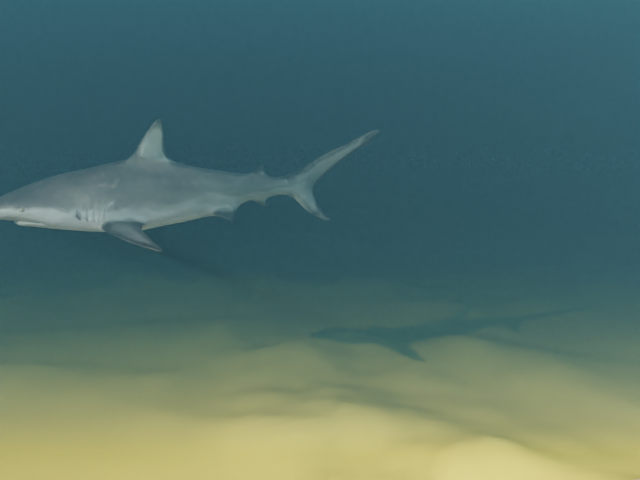Carribean Shark.001: (0, 118, 379, 251)
